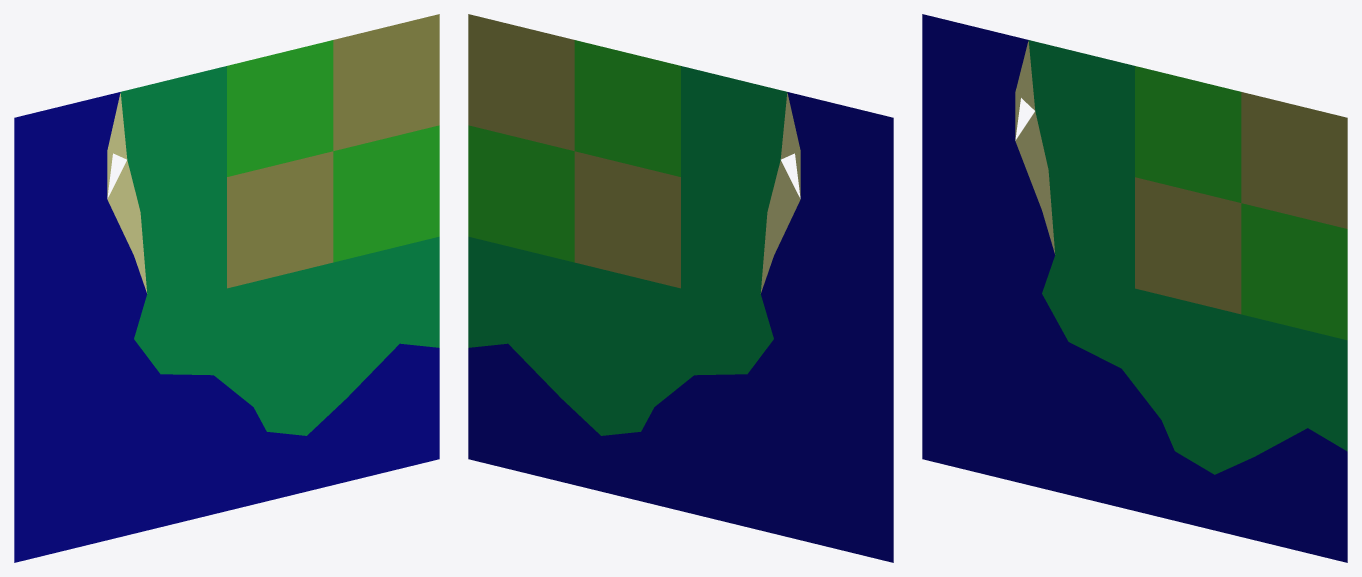
File: tiles2_44.obj
The picture shows the model from 3 angles, left to right: view 1: azimuth 30°, elevation 25°; view 2: azimuth 150°, elevation 25°; view 3: azimuth 330°, elevation 25°; orthographic projection.
Visible parts, largest first — view 1: tiles2_44; view 2: tiles2_44; view 3: tiles2_44.
Part boxes in pixels (x1,y1,x2,y2): tiles2_44: (14,14,439,562); tiles2_44: (468,14,893,562); tiles2_44: (922,14,1347,562).
Size of the model in its own units: 4.1 by 4.1 by 0.
